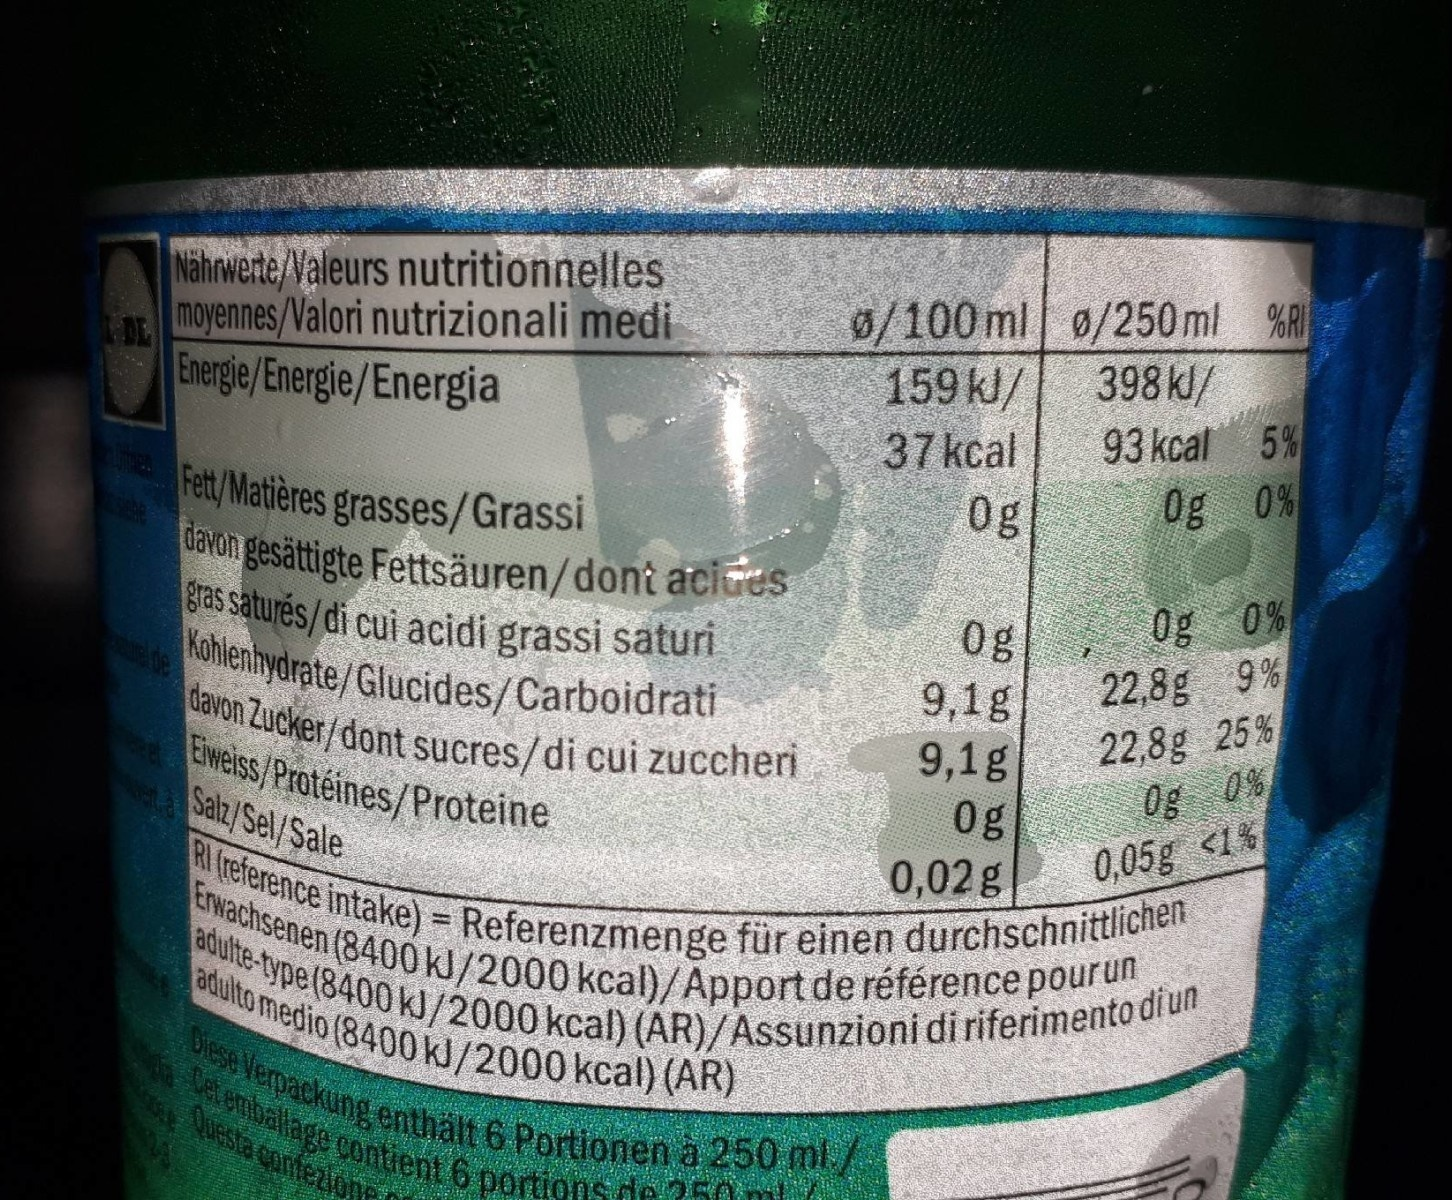column: (165, 250, 797, 911), (854, 302, 1030, 898), (1056, 238, 1206, 926), (1212, 233, 1308, 918)
table: (164, 235, 1312, 919)
